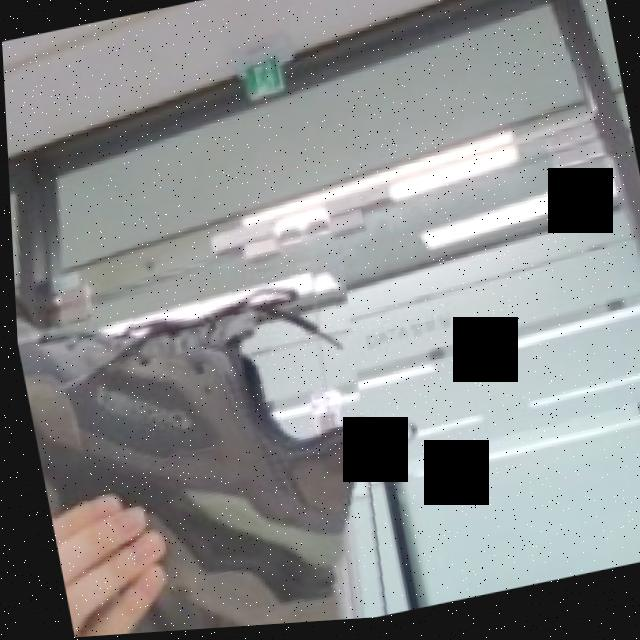shoe: (11, 246, 404, 640)
